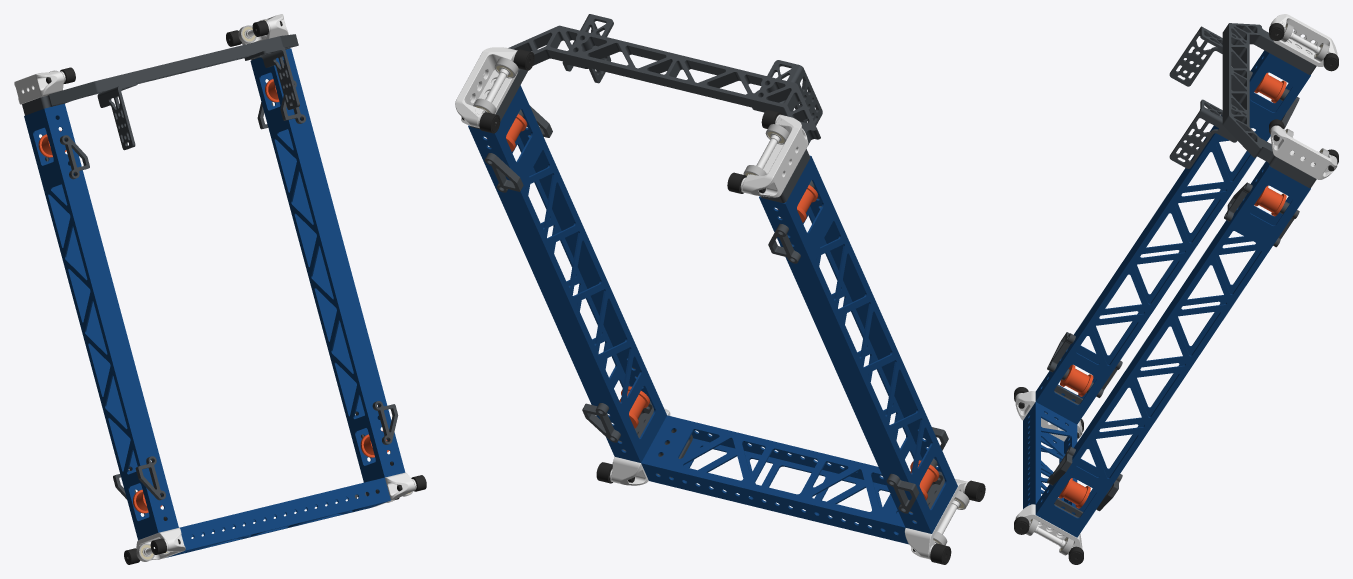
The picture shows the model from 3 angles, left to right: view 1: azimuth 30°, elevation 25°; view 2: azimuth 150°, elevation 25°; view 3: azimuth 270°, elevation 25°; orthographic projection. The views are drawn at different scales.
Parts seen in each view (by area): view 1: Tube 2"x1"x18.5" (×2), Part 1 (×5), Tube 2"x1"x10", SDS Elevator Block (×4), Part 2; view 2: Tube 2"x1"x18.5" (×2), Tube 2"x1"x10", Part 1 (×6), SDS Elevator Block (×4), Part 2; view 3: Tube 2"x1"x18.5" (×2), Part 1 (×9), SDS Elevator Block (×4), Tube 2"x1"x10", Part 2.
Boxes of the visible parts, left/top/right/bottom form: Tube 2"x1"x18.5" (×2): left=24, top=48, right=405, bottom=540; Part 1 (×5): left=22, top=34, right=398, bottom=500; Tube 2"x1"x10": left=166, top=477, right=390, bottom=557; SDS Elevator Block (×4): left=14, top=14, right=426, bottom=564; Part 2: left=244, top=46, right=299, bottom=109; Tube 2"x1"x18.5" (×2): left=468, top=85, right=957, bottom=533; Tube 2"x1"x10": left=641, top=415, right=908, bottom=544; Part 1 (×6): left=470, top=25, right=919, bottom=513; SDS Elevator Block (×4): left=455, top=47, right=985, bottom=564; Part 2: left=562, top=14, right=613, bottom=83; Tube 2"x1"x18.5" (×2): left=1035, top=50, right=1310, bottom=537; Part 1 (×9): left=1047, top=23, right=1316, bottom=508; SDS Elevator Block (×4): left=1014, top=14, right=1338, bottom=564; Tube 2"x1"x10": left=1023, top=402, right=1077, bottom=508; Part 2: left=1169, top=99, right=1237, bottom=168.
Size of the model in its own units: 0.3315 by 0.4958 by 0.3391.
